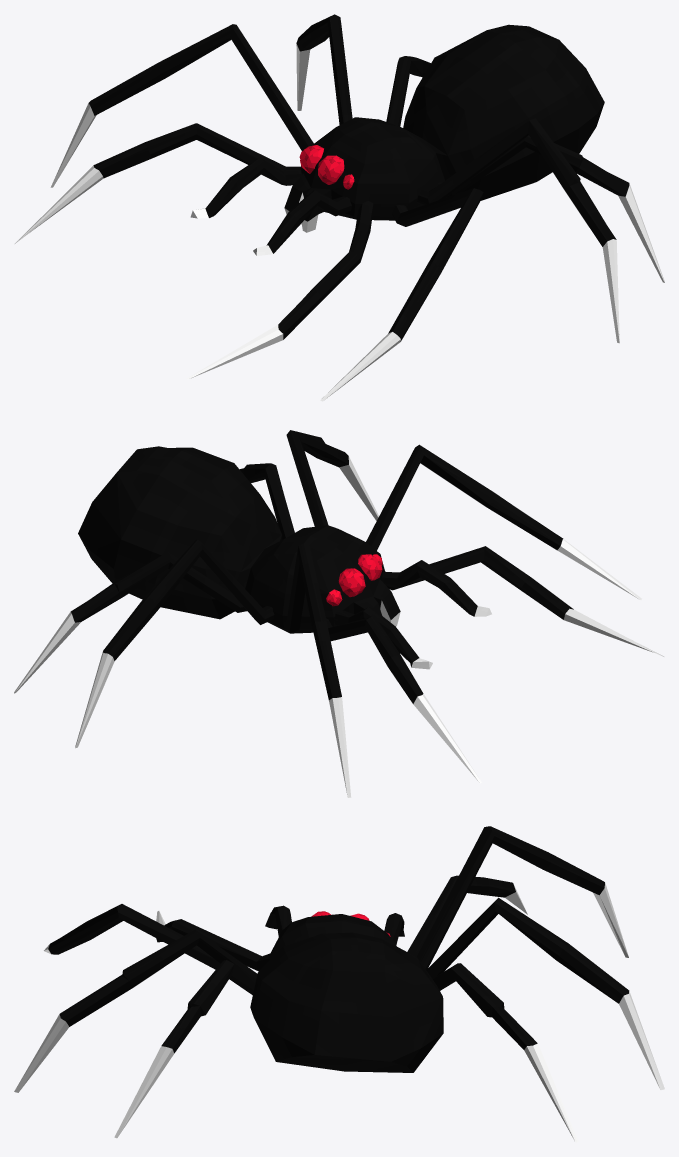
Rendered from spiderAttack9.obj.
3 views of the same model, one above another, from view 1: azimuth 30°, elevation 25°; view 2: azimuth 150°, elevation 25°; view 3: azimuth 270°, elevation 25° (orthographic). The views are drawn at different scales.
Visible parts, largest first — view 1: Cube.004_Cube.005; view 2: Cube.004_Cube.005; view 3: Cube.004_Cube.005.
Boxes of the visible parts, x1,y1,x2,y2 form: Cube.004_Cube.005: (15,14,664,401); Cube.004_Cube.005: (14,430,664,797); Cube.004_Cube.005: (14,826,664,1142).
Size of the model in its own units: 31.09 by 11.15 by 34.7.
